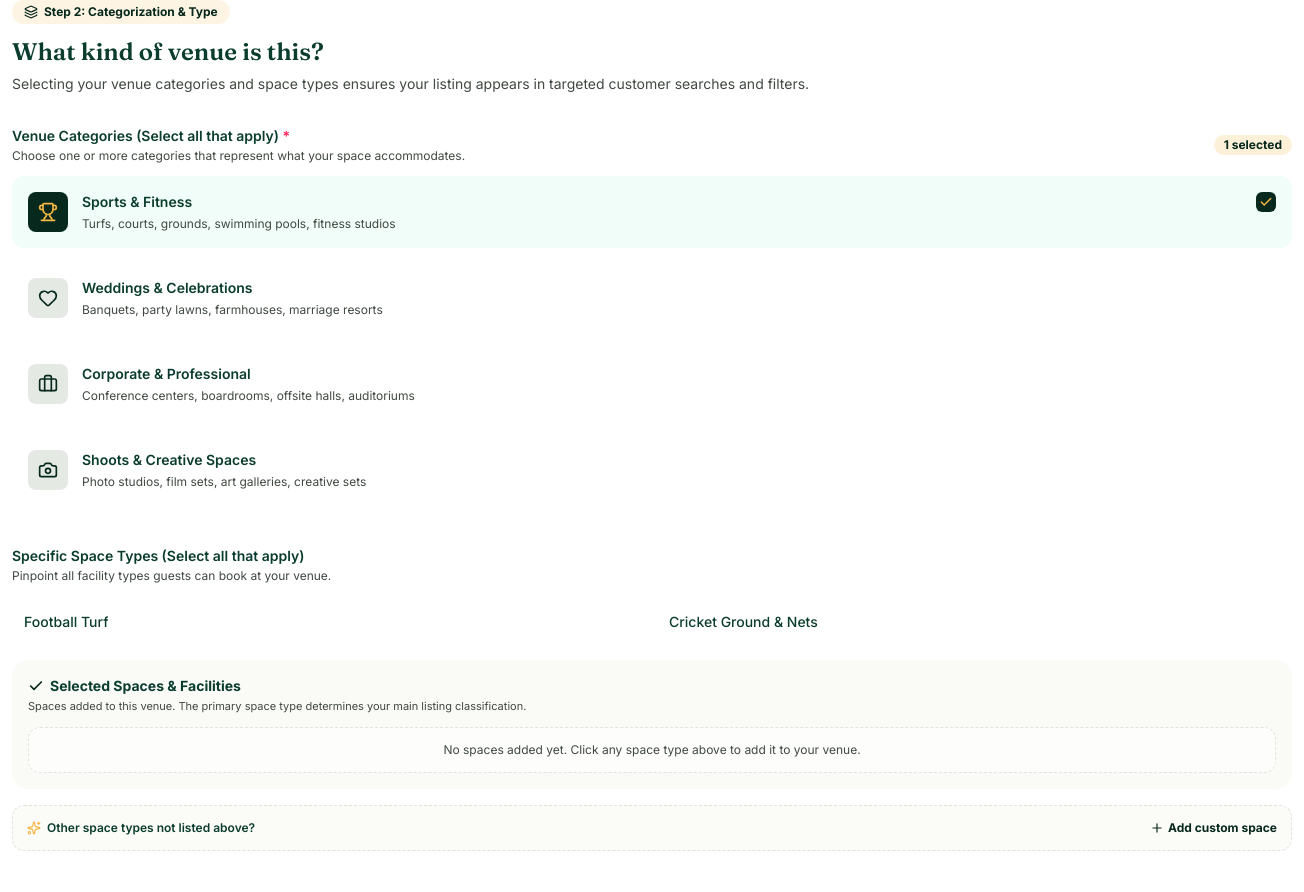
CategoryStep - Multi-Category, Multi-Space-Type & Deduplication › 2. allows selecting multiple categories simultaneously
expect the text "Sports & Fitness" is shown: met, box [82, 193, 192, 210]
expect the text "1 selected" is shown: met, box [1214, 135, 1292, 155]
Click "Weddings & Celebrations" to multi-select
Click the text "Weddings & Celebrations" at (167, 288), box [82, 279, 252, 296]
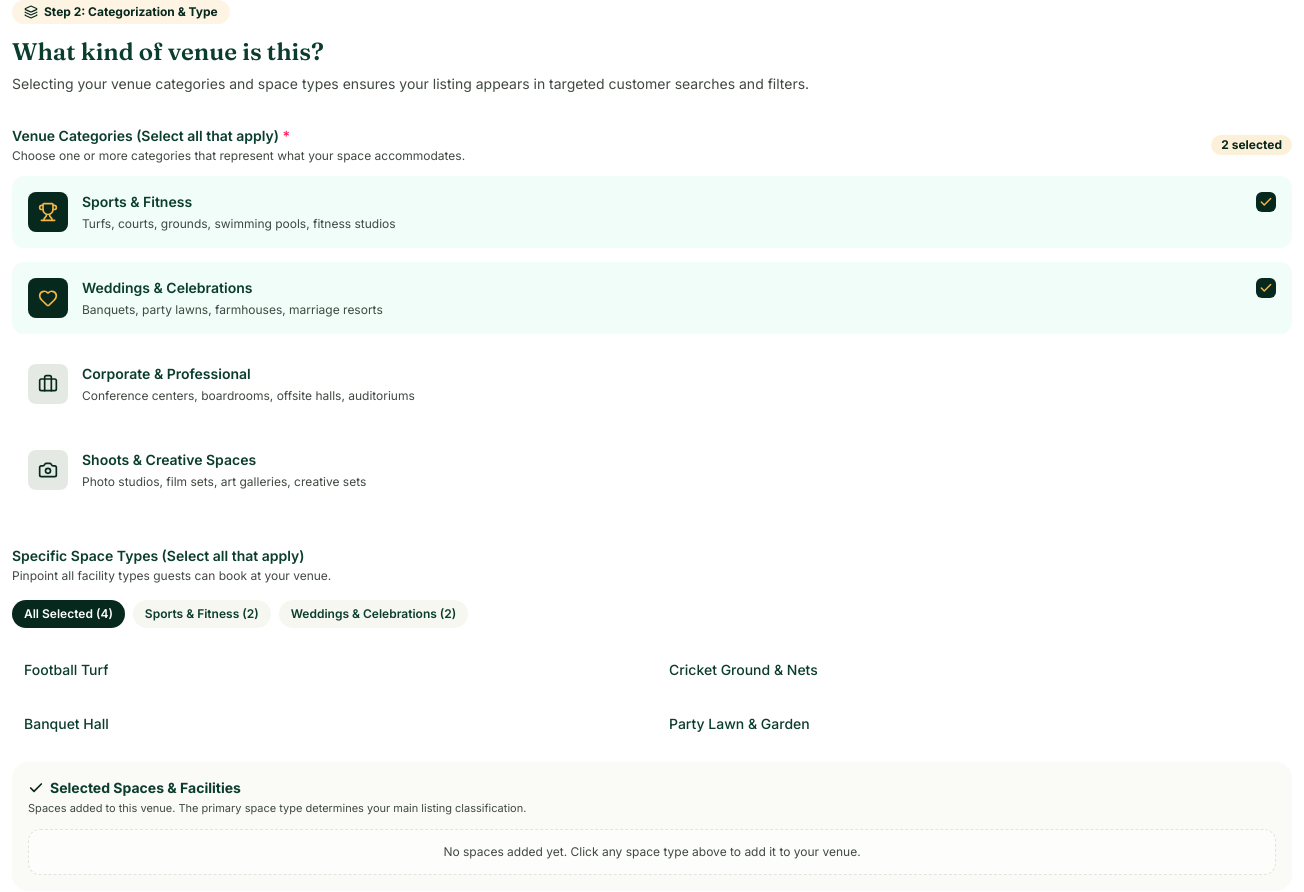
expect the text "2 selected" is shown: met, box [1211, 135, 1292, 155]
expect the text "Party Lawn & Garden" is shown: met, box [669, 714, 810, 734]
expect the text "Banquet Hall" is shown once: met, box [24, 714, 109, 734]
